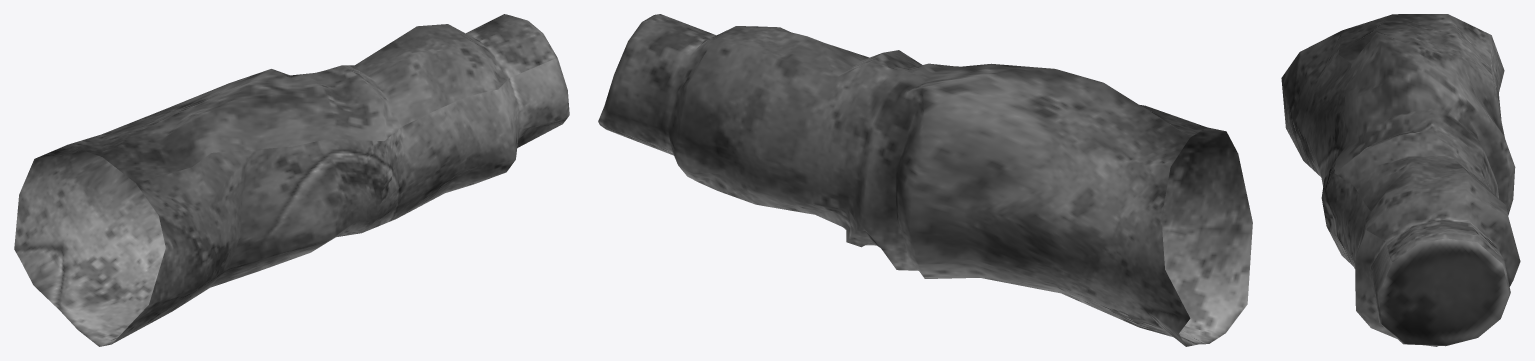
The model's file is SoldierSleeveR.fbx.
3 renders of one model, left to right at view 1: azimuth 30°, elevation 25°; view 2: azimuth 150°, elevation 25°; view 3: azimuth 270°, elevation 25°, orthographic. The views are drawn at different scales.
Parts seen in each view (by area): view 1: pasted__Soldier; view 2: pasted__Soldier; view 3: pasted__Soldier.
Boxes of the visible parts, x1,y1,x2,y2 form: pasted__Soldier: (14,14,569,346); pasted__Soldier: (598,14,1252,346); pasted__Soldier: (1281,14,1520,346).
Bounding box in the file's own units: 49.54 × 18.42 × 18.64.
